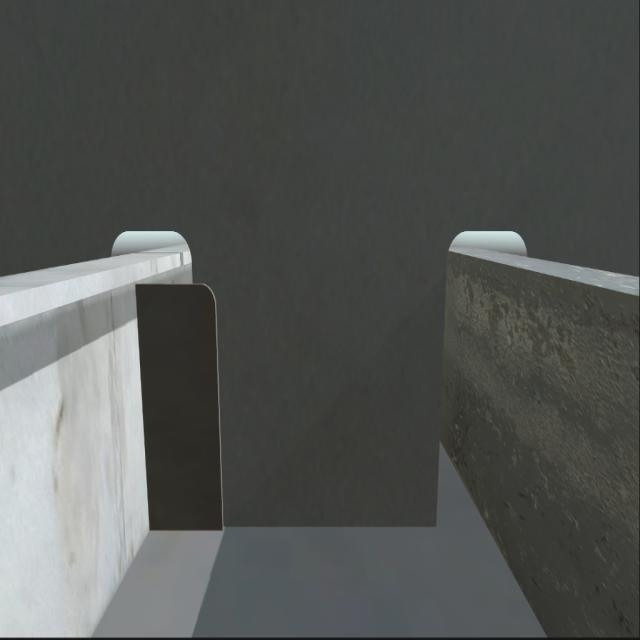fillet_yong_jeop_jang: (143, 508, 440, 534)
longi_yong_jeop_jang: (137, 276, 153, 538)
plate_CP05: (145, 283, 221, 528)
